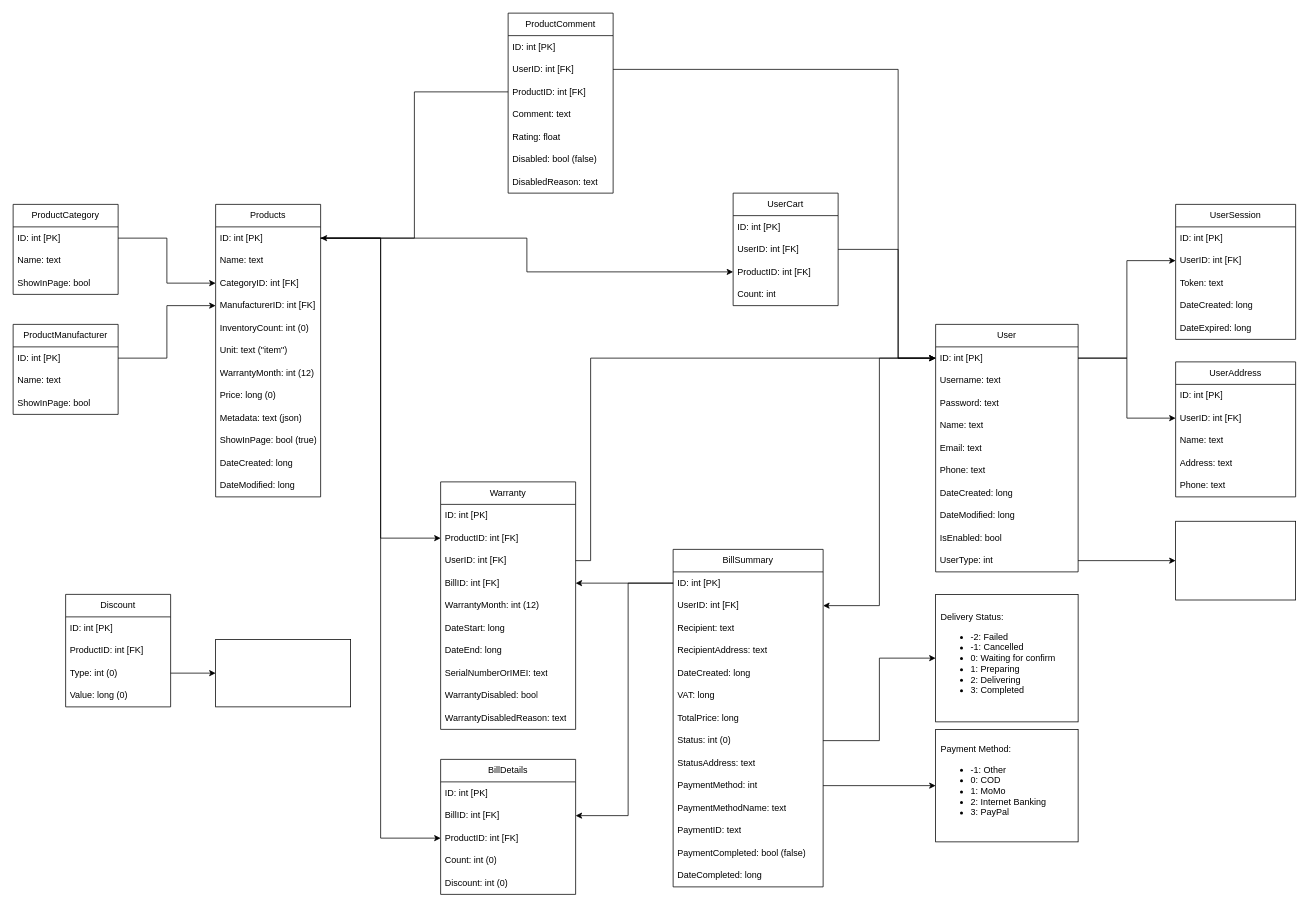
The diagram is 1309 pixels wide and 908 high, and some of its shapes have lost their labels. The shapes that lost their labels are listed below. From the top down, each one's centre as x and y in pixels, then its label:
pixel 1235 560: UserType: 0: Normal user 1: Staff user 2: Administrator
pixel 283 673: Discount By: 0: Percent (0 - 100%) 1: Money
